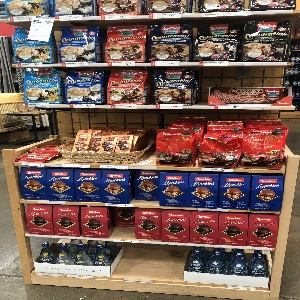void: (114, 244, 183, 280)
